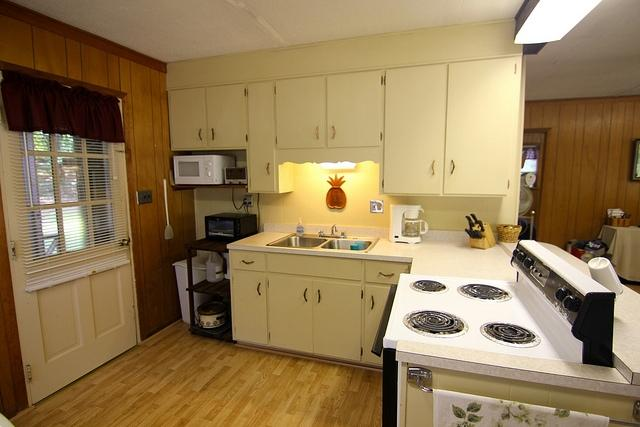pineapple: (326, 174, 346, 208)
